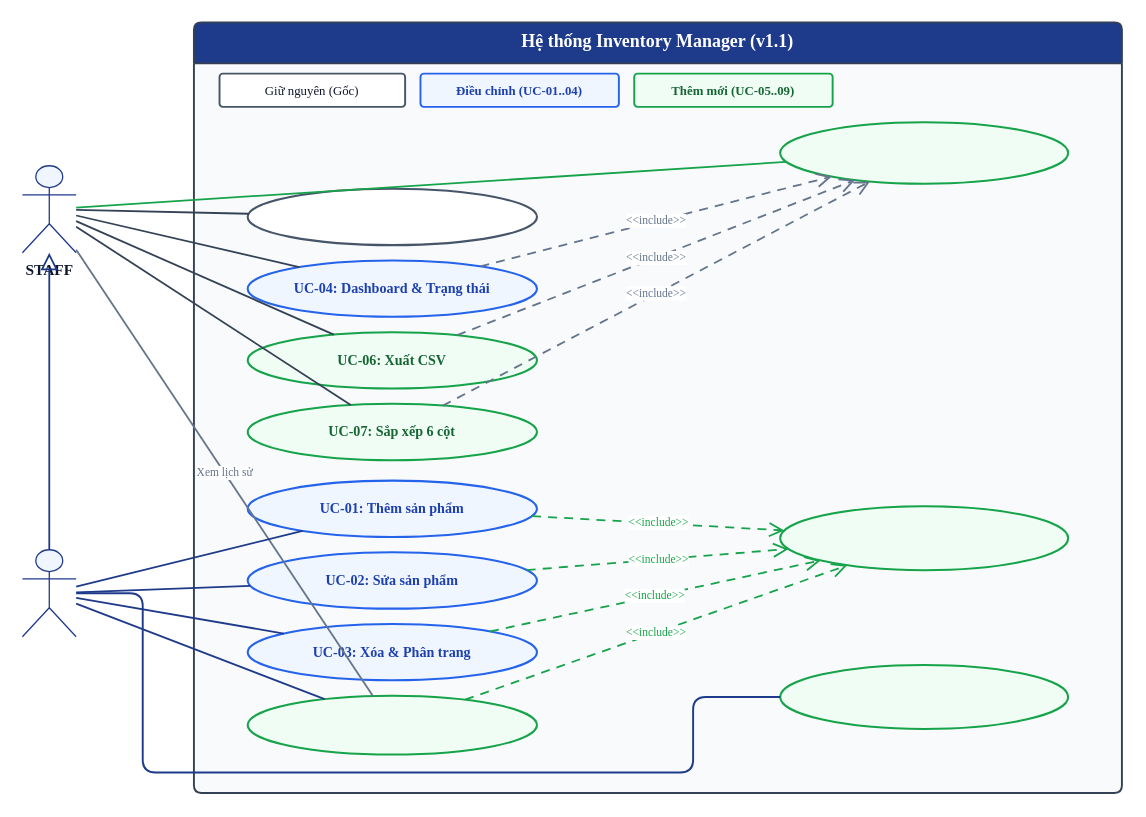
This 1146x817 diagram has some shape labels left out. Here are the shapes that lost their labels. From the top down, the centre of each, then its label:
pixel 923 152: UC-05: Đăng nhập JWT
pixel 391 216: Tìm kiếm & Lọc danh mục
pixel 923 538: Ghi Audit Log (Nội bộ)
pixel 48 592: ADMIN
pixel 923 696: UC-09: Xem Audit Log
pixel 391 724: UC-08: Điều chỉnh kho & Lịch sử
